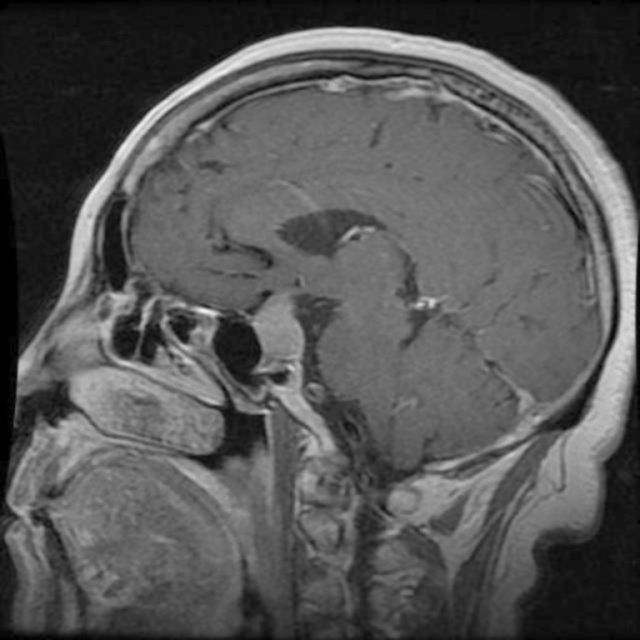no tumor: (258, 295, 312, 376)
